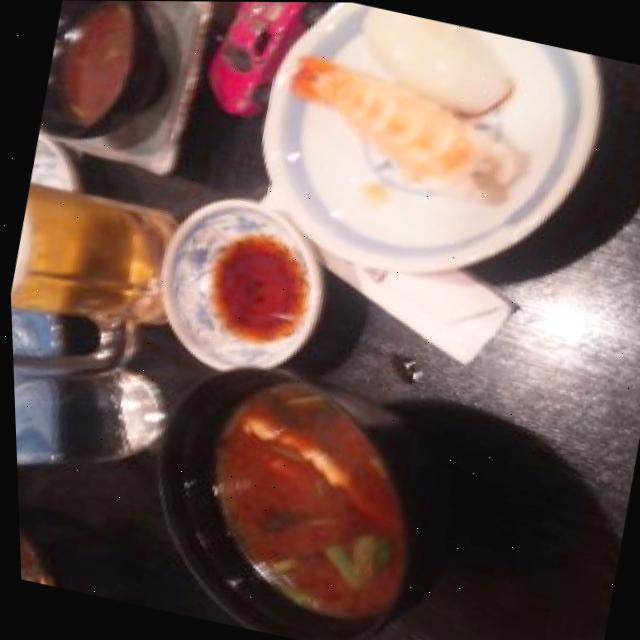寿司卷物: (249, 1, 589, 269)
汤锅炖物: (115, 361, 441, 640)
